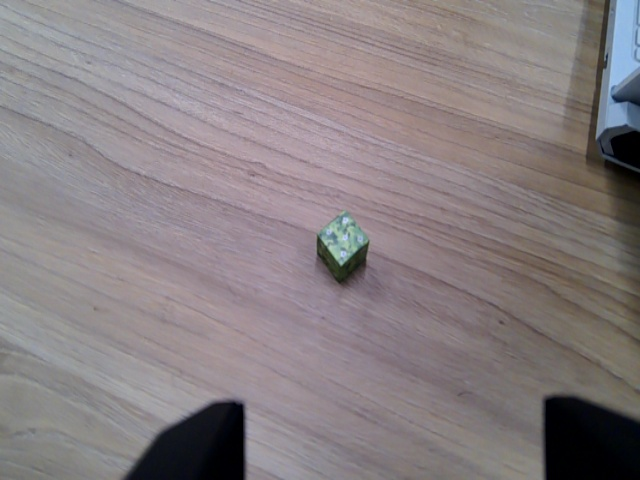grass: (313, 210, 372, 284)
